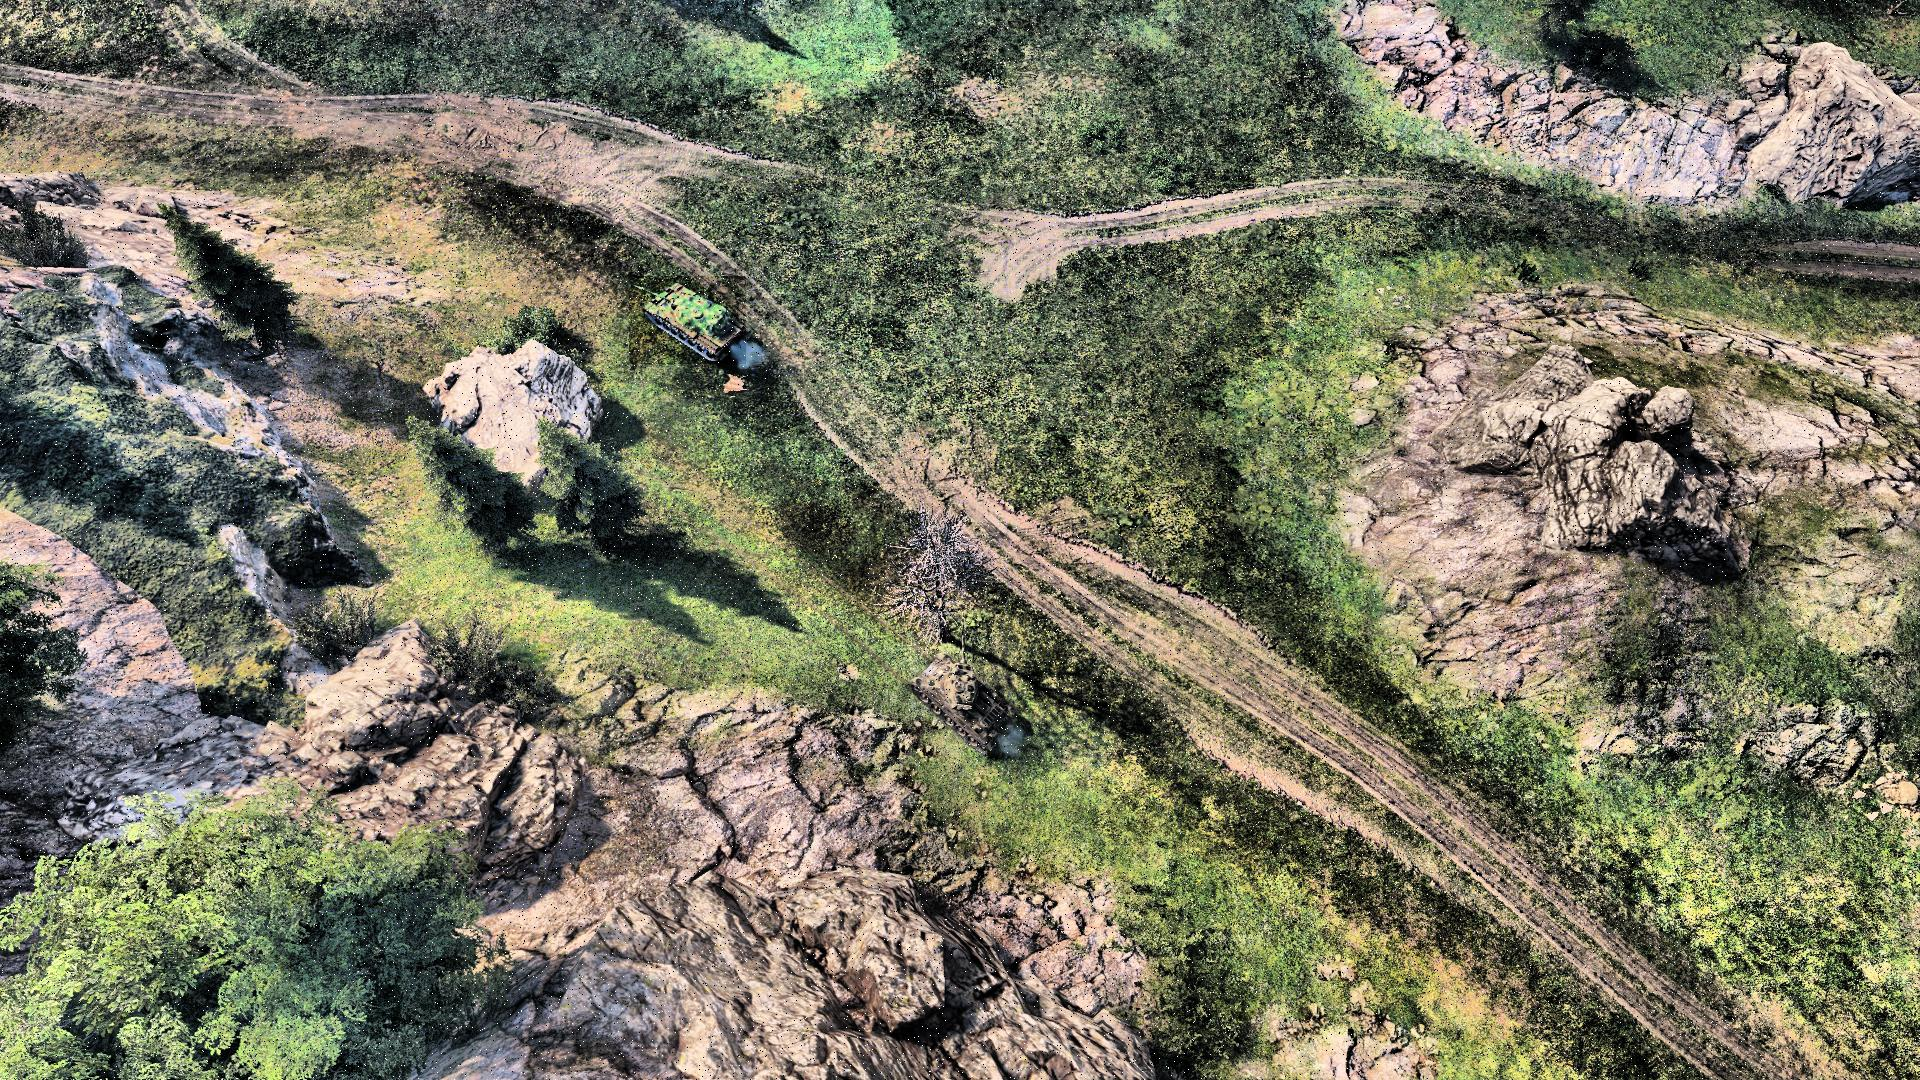military-vehicle: (909, 632, 1017, 754), (630, 277, 746, 365)
